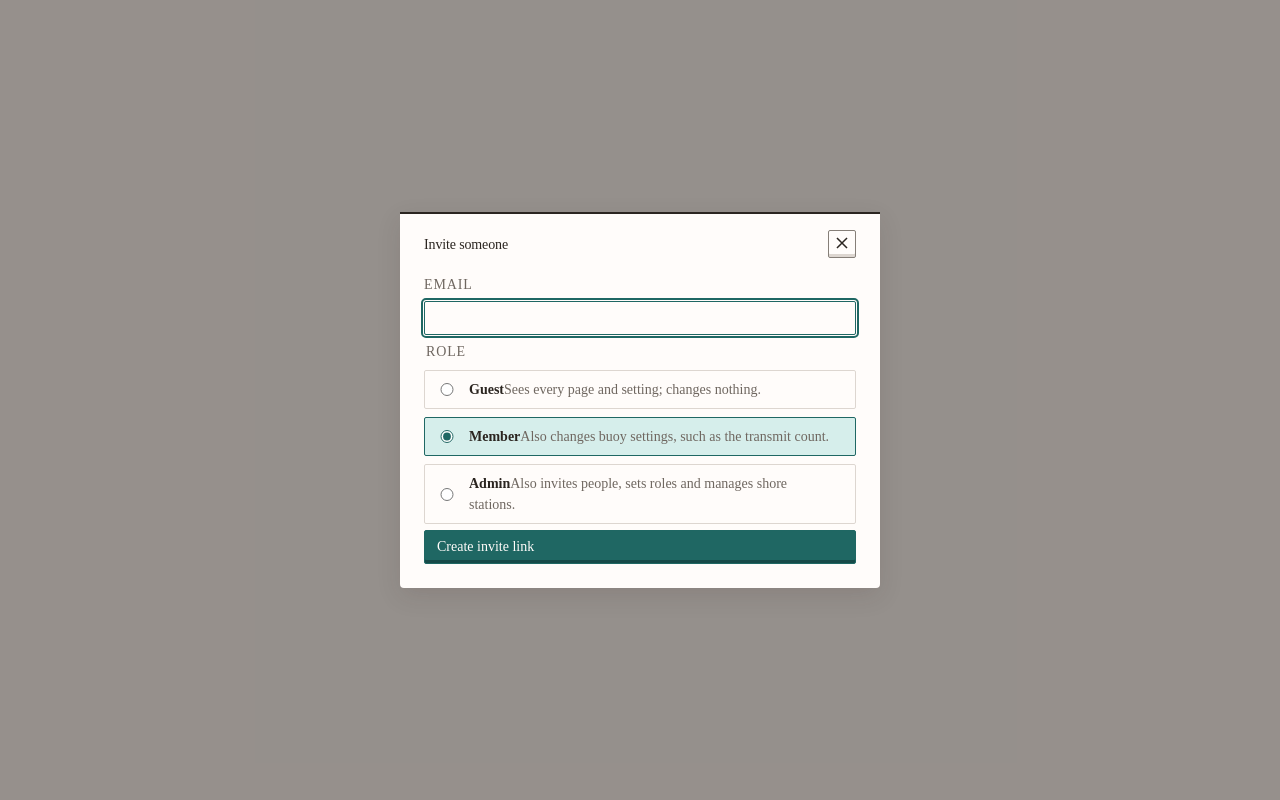
Test: InviteDialog › says why the console refused it
Type "new@scout.test" into the field labelled "Email" at (640, 318), box 424,301 -> 856,335
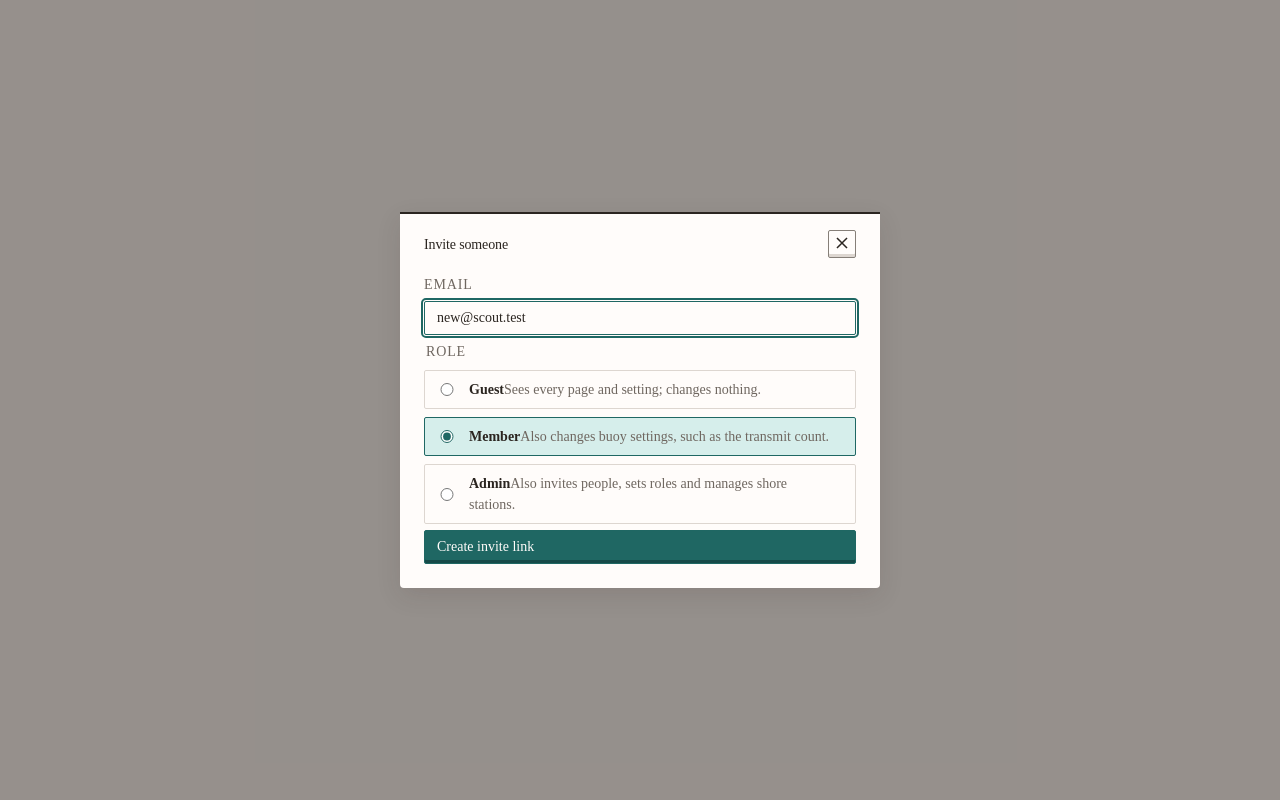
Click the button "Create invite link" at (486, 546), box 424,530 -> 856,564
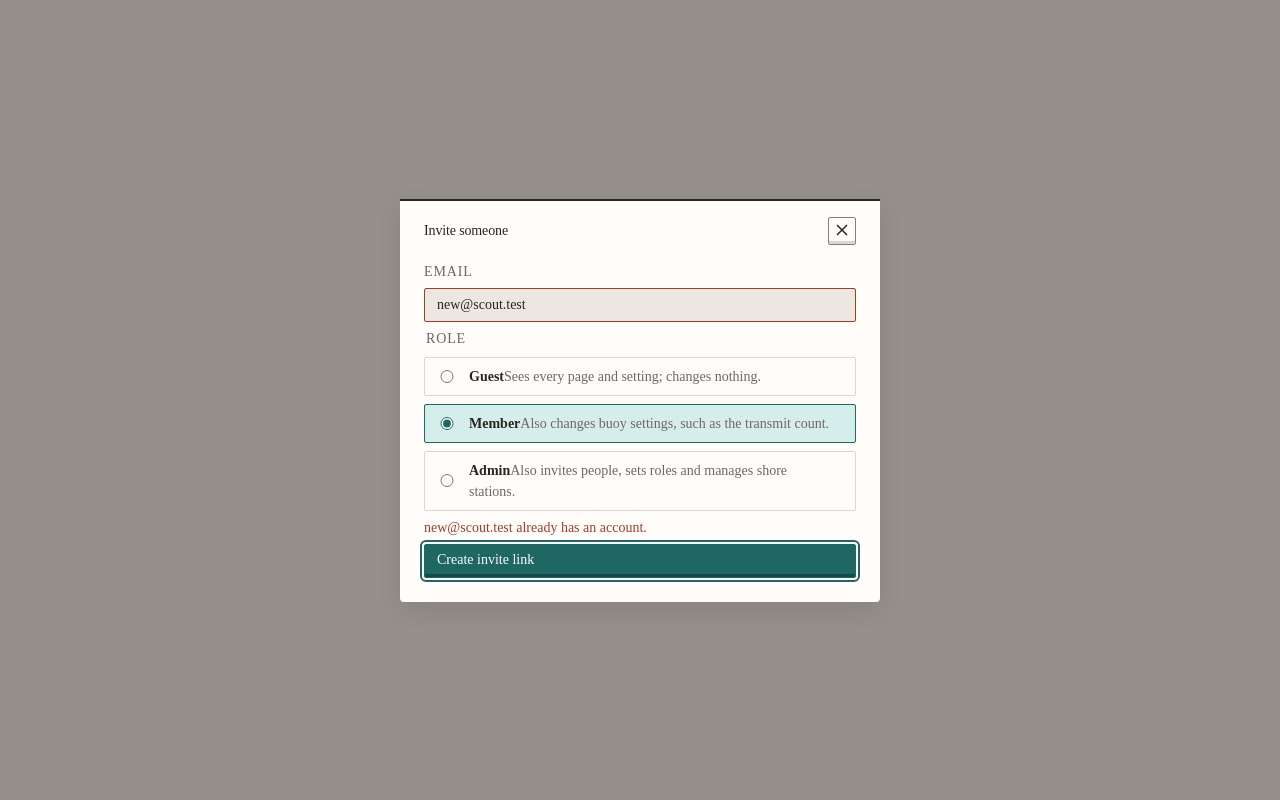
Expected: the message shows "already has an account", 424,520 -> 647,534
